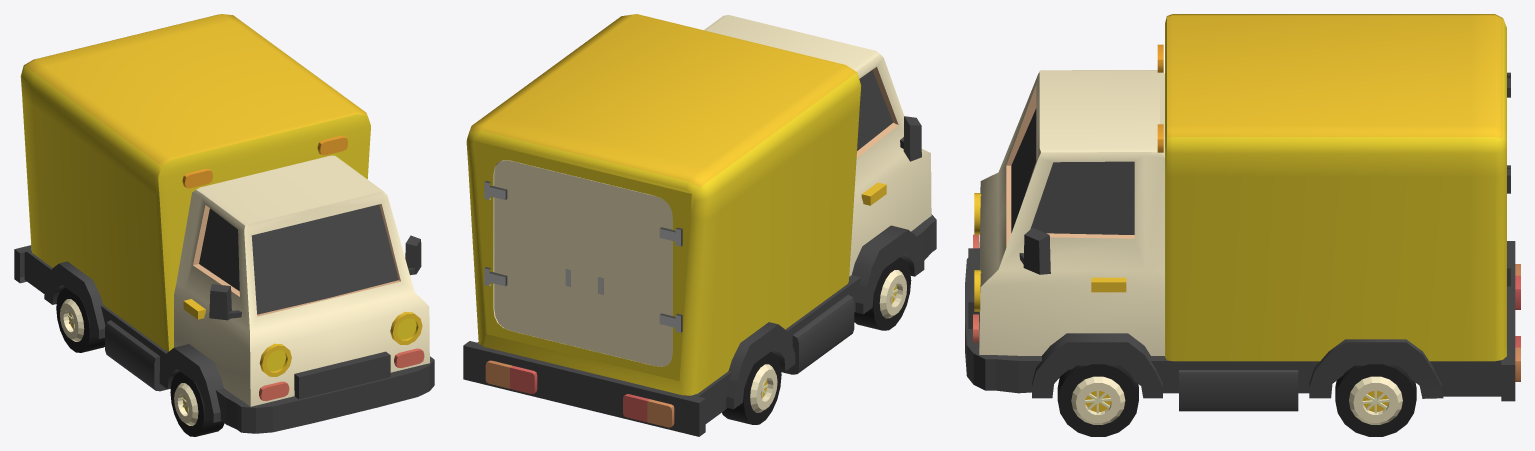
The model's file is Gold_Middle_Truck.fbx.
3 views of the same model, side by side, from view 1: azimuth 30°, elevation 25°; view 2: azimuth 150°, elevation 25°; view 3: azimuth 270°, elevation 25° (orthographic). The views are drawn at different scales.
Parts seen in each view (by area): view 1: Gold_Middle_Truck, Gold_Middle_Truck_Wheel (×2); view 2: Gold_Middle_Truck, Middle_Left_Door002, Middle_Right_Door002, Gold_Middle_Truck_Wheel (×2); view 3: Gold_Middle_Truck, Gold_Middle_Truck_Wheel (×2).
Part boxes in pixels (x1=…): Gold_Middle_Truck: x1=14, y1=14, x2=434, y2=433; Gold_Middle_Truck_Wheel (×2): x1=56, y1=287, x2=224, y2=436; Gold_Middle_Truck: x1=463, y1=14, x2=936, y2=436; Middle_Left_Door002: x1=484, y1=160, x2=584, y2=348; Middle_Right_Door002: x1=584, y1=178, x2=682, y2=366; Gold_Middle_Truck_Wheel (×2): x1=722, y1=257, x2=911, y2=424; Gold_Middle_Truck: x1=965, y1=14, x2=1520, y2=411; Gold_Middle_Truck_Wheel (×2): x1=1057, y1=364, x2=1416, y2=436.
Bounding box in the file's own units: 250 × 277 × 457.
